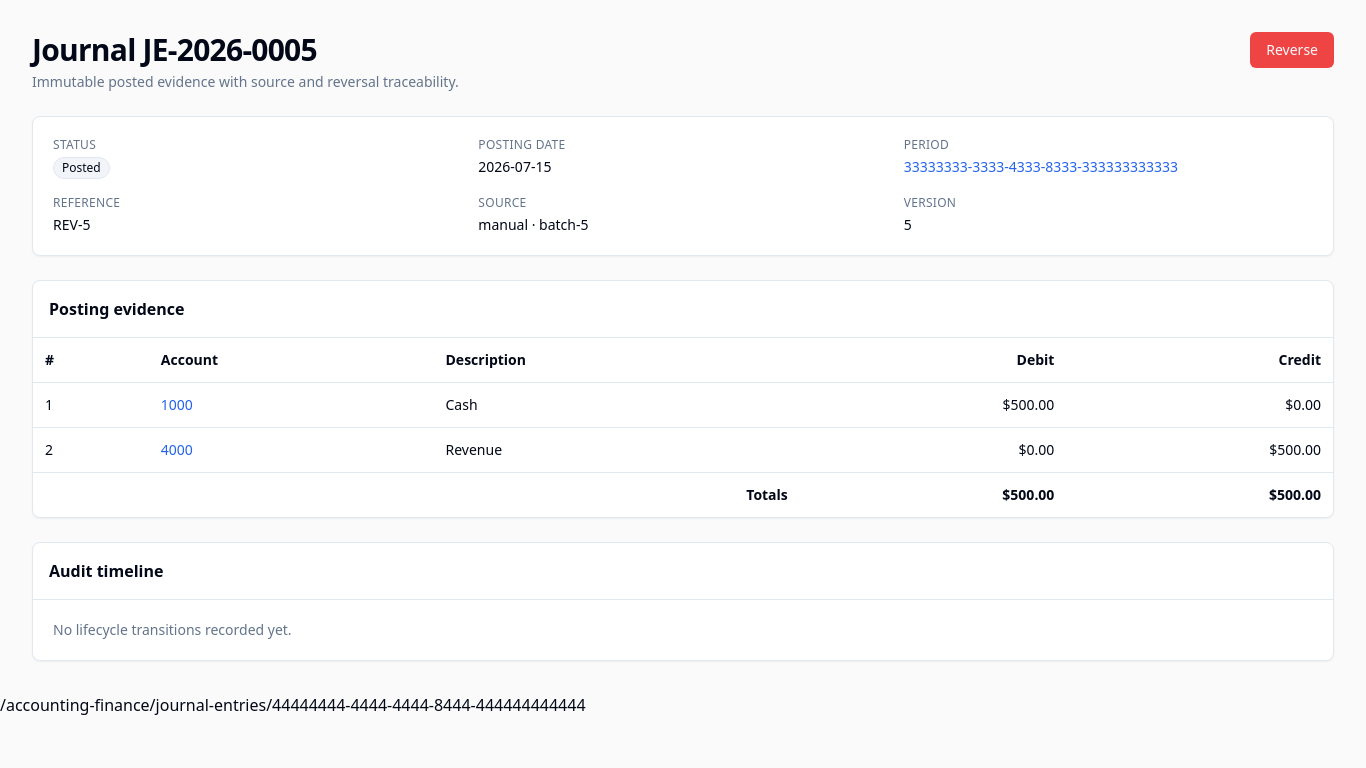
accounting resource detail pages › reverses posted journals with versioned idempotent payloads and today's posting date
Expected: the heading "Journal JE-2026-0005" is shown, [32,29,317,70]
Click the button "Reverse" at (1292, 50), box [1250,32,1334,68]
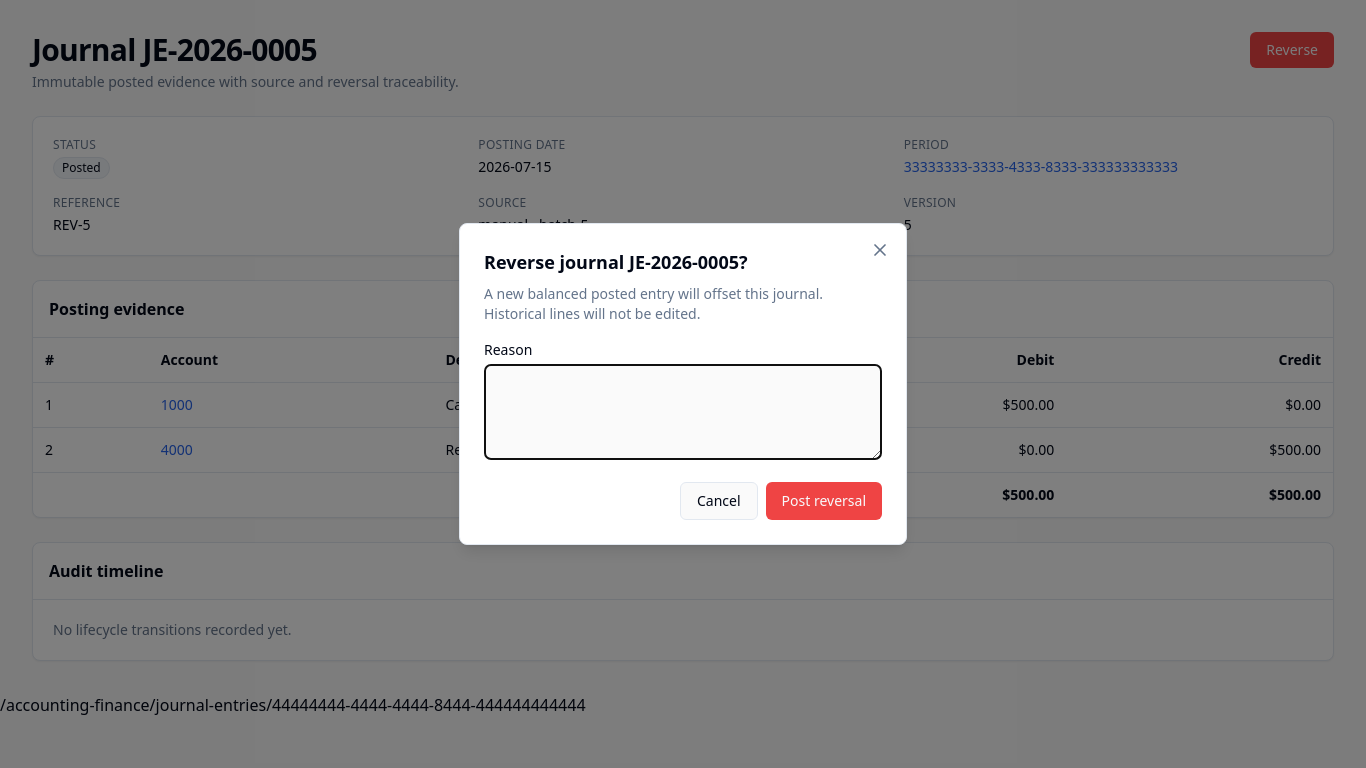
Type "Accrual no longer valid" into the text box labelled "Reason" at (683, 412), box [484,364,882,460]
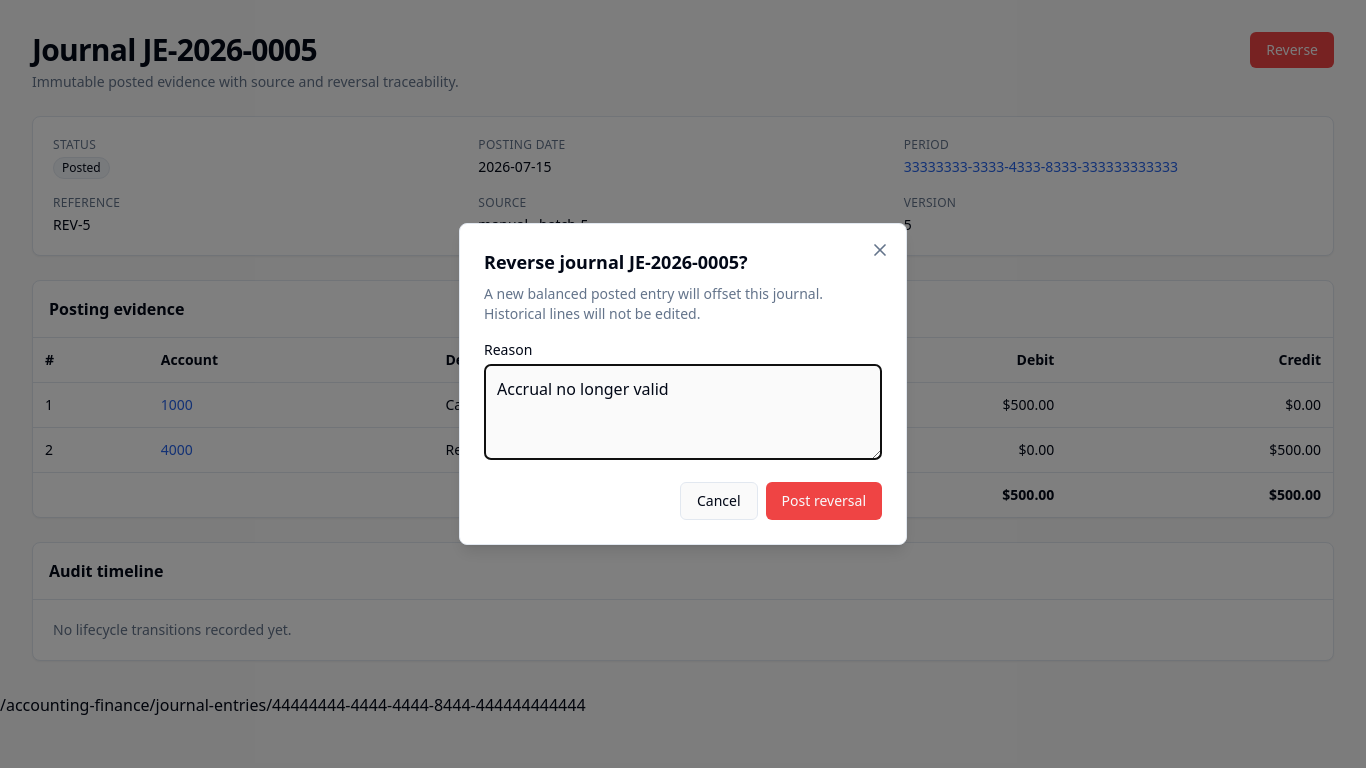
Click the button "Post reversal" at (824, 501), box [766,482,882,520]
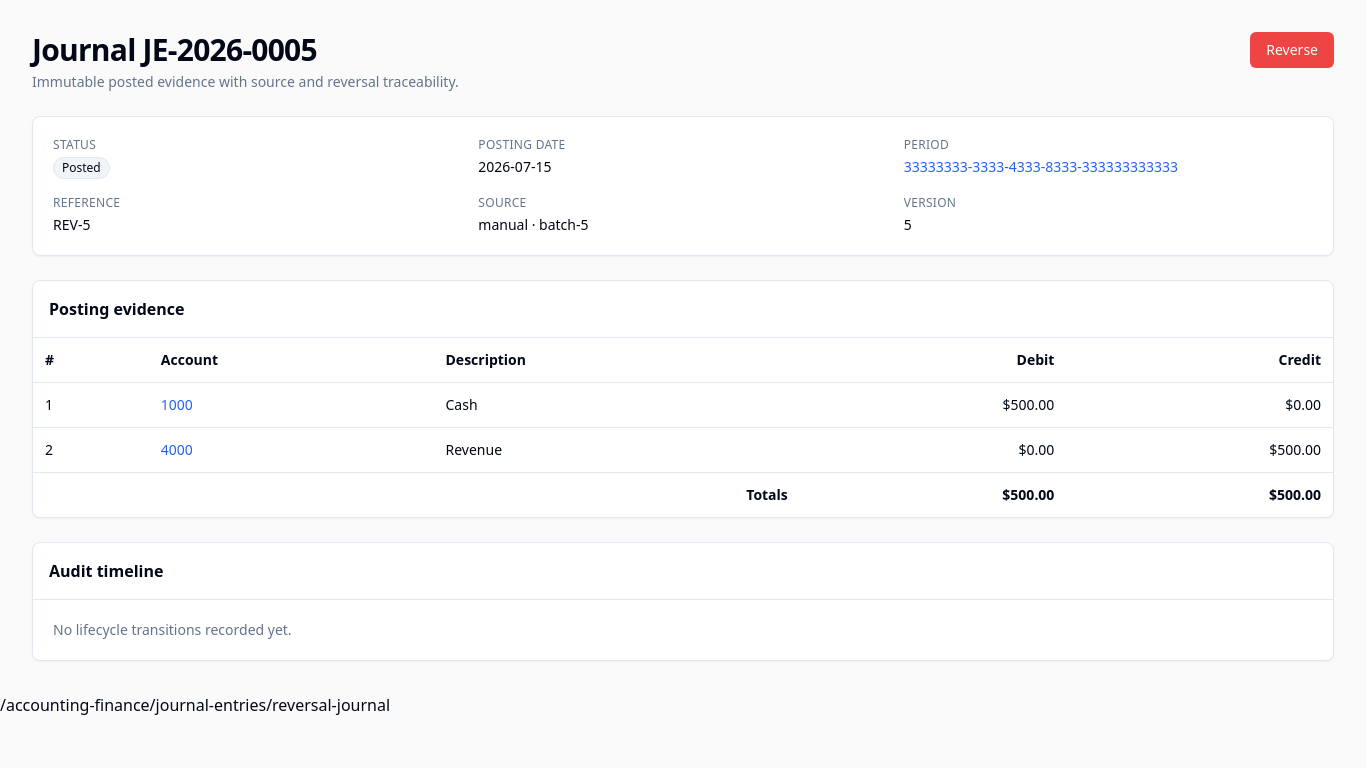
Expected: the text named "Current route" reads "/accounting-finance/journal-entries/reversal-journal", [0,694,390,716]
